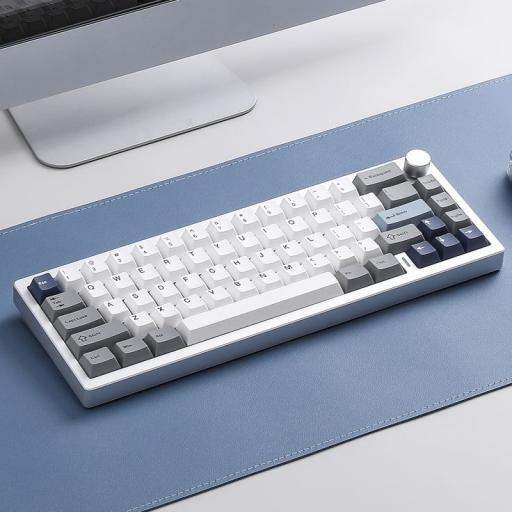KEYBOARD-2: (18, 141, 507, 406)
